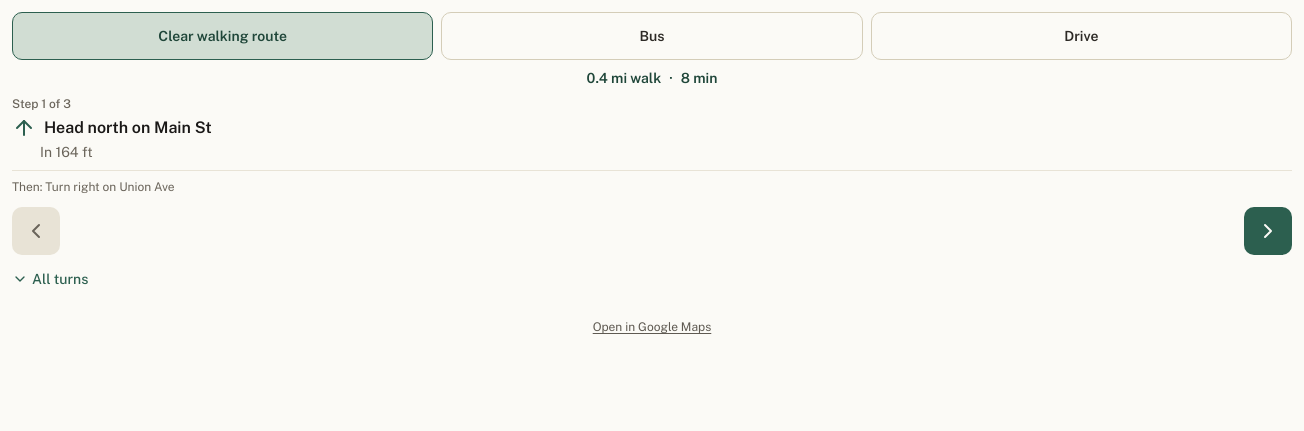
Test: DirectionButtons — turn-by-turn step list (#134 enhancement) › clicking toggle expands the step list and flips aria-expanded
Click the button with test id "walk-stepper-all-turns-toggle" at [50, 279], box 12,263 -> 88,295
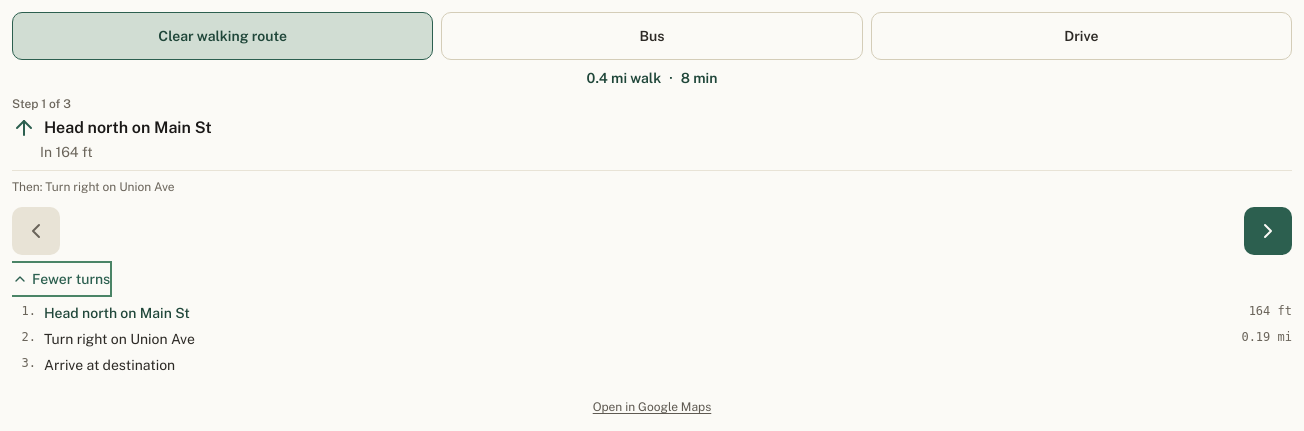
Now the button with test id "walk-stepper-all-turns-toggle" is expanded, box 12,263 -> 110,295
Now the list with test id "walk-steps-list" is shown, box 12,303 -> 1292,375
